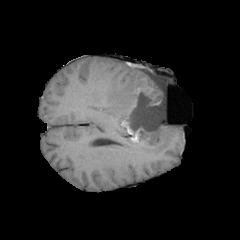glioma: (89, 72, 172, 154)
